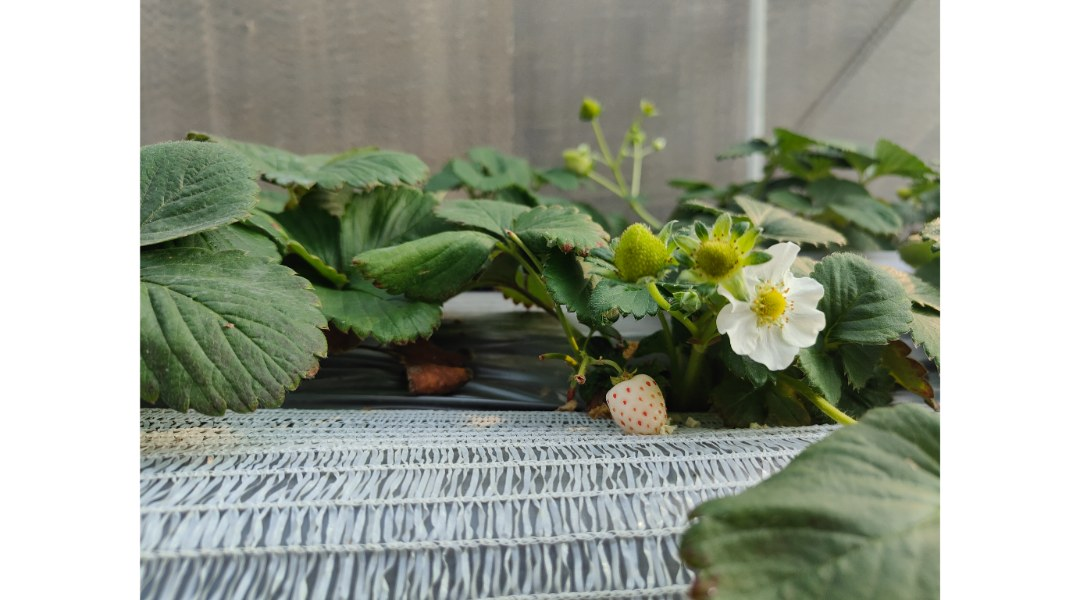berry: (596, 368, 678, 452), (604, 218, 683, 281)
flower: (724, 241, 824, 372)
